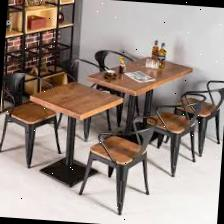Clean Table: (13, 72, 128, 148)
